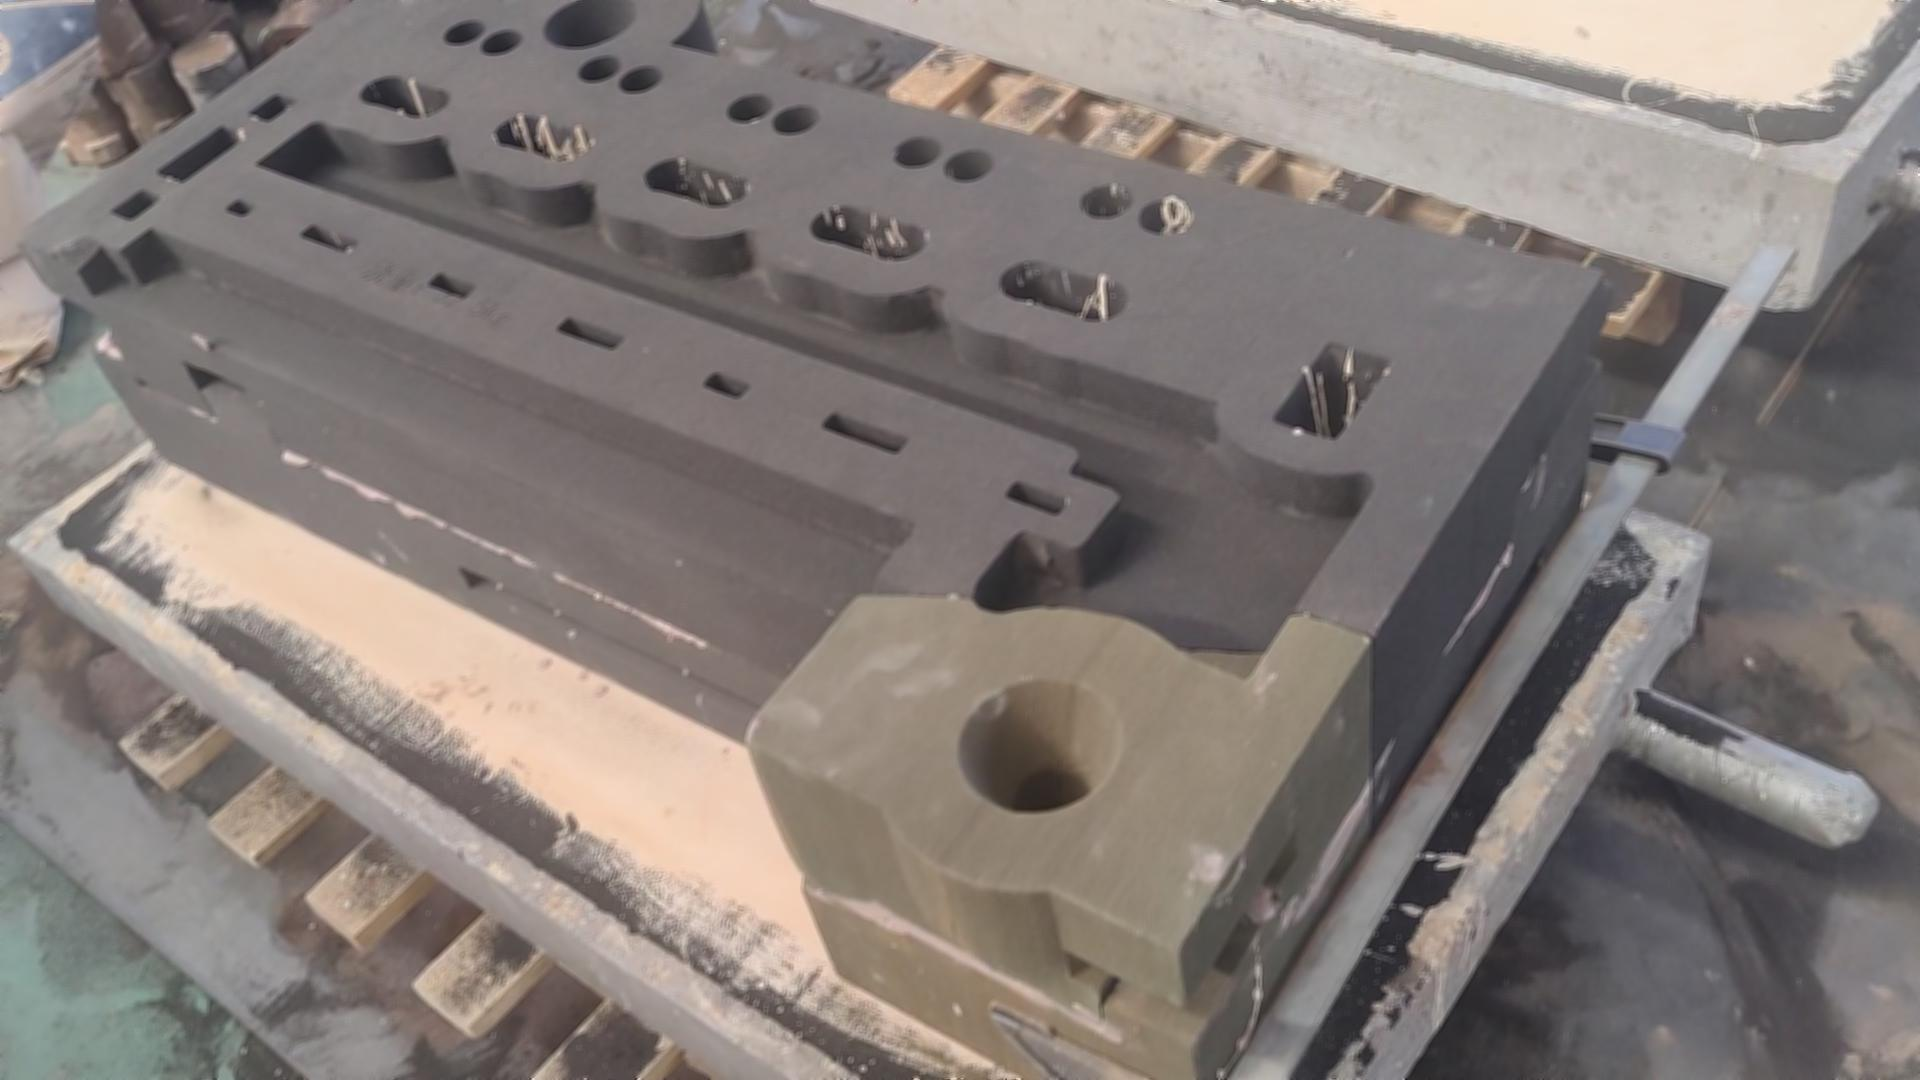pouring hole: (952, 673, 1124, 814), (541, 1, 641, 51)
